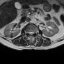CCS_stenosis: (30, 30, 31, 36)
LFS_stenosis: (33, 30, 35, 34)
LLS_normal: (32, 30, 33, 35)
RFS_stenosis: (26, 30, 28, 34)
RLS_stenosis: (28, 30, 30, 35)
